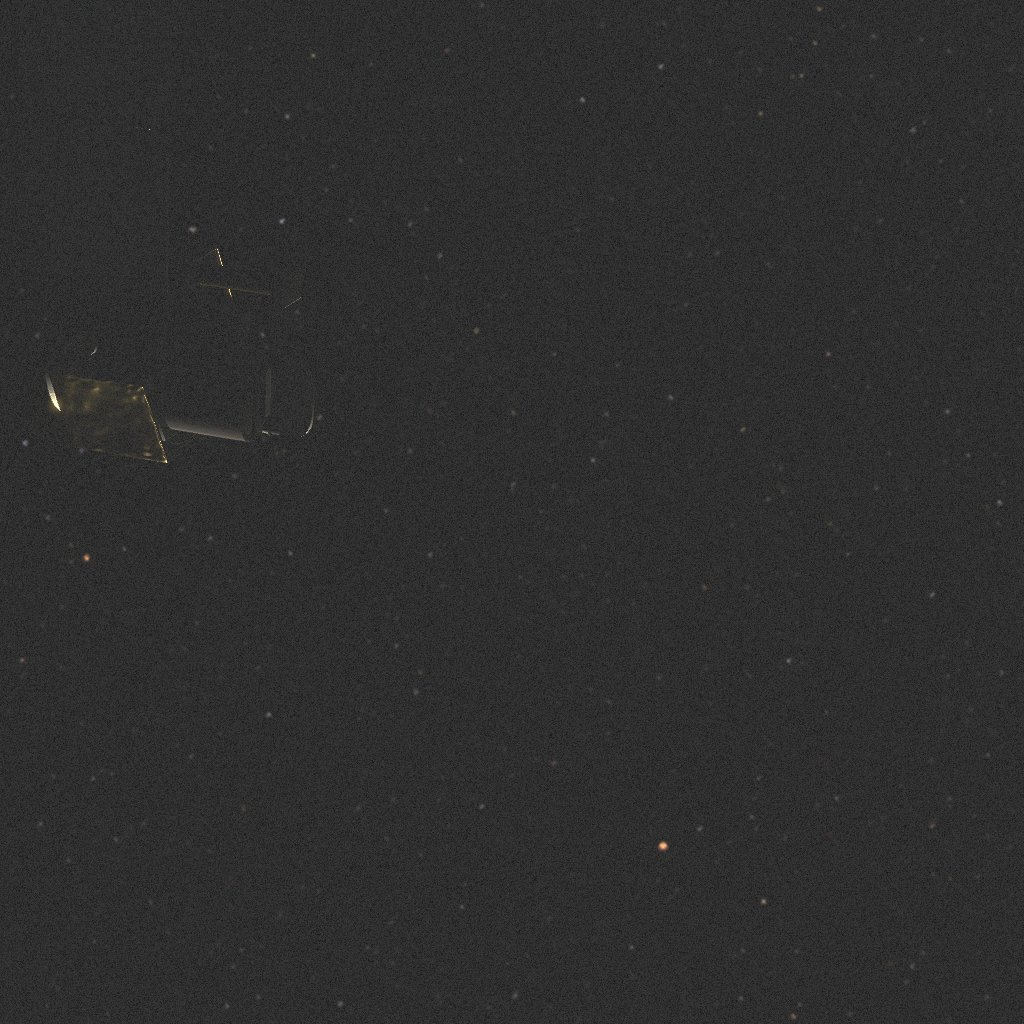earth_observation_sat_1: (18, 0, 315, 463)
